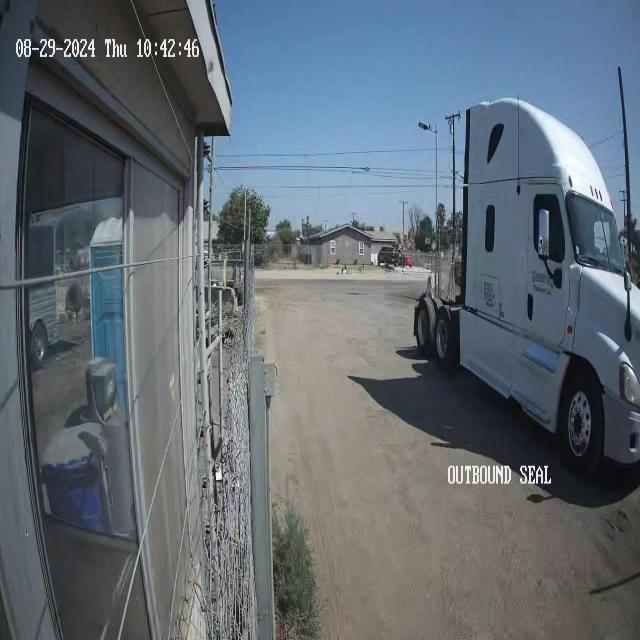TRUCK_IN: (413, 93, 639, 480)
